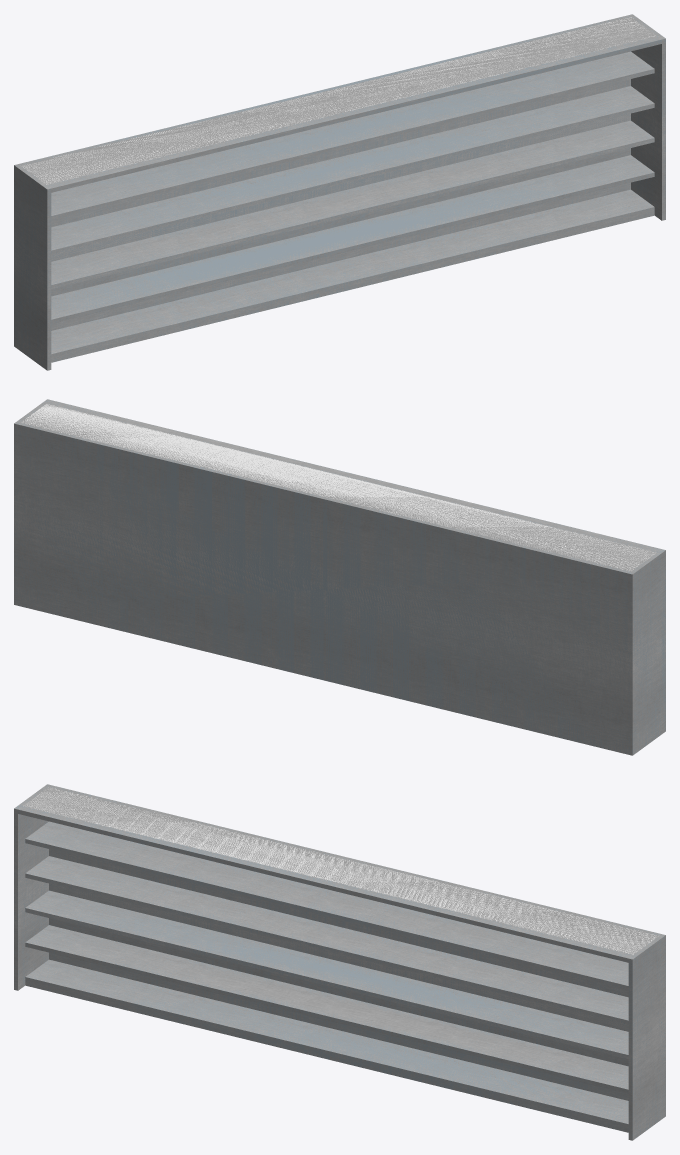
The model's file is oneSidedShelf.fbx.
3 renders of one model, top to bottom at view 1: azimuth 30°, elevation 25°; view 2: azimuth 150°, elevation 25°; view 3: azimuth 330°, elevation 25°, orthographic.
Parts seen in each view (by area): view 1: Model; view 2: Model; view 3: Model.
Part boxes in pixels (box(x1,y1,x2,y2)): Model: box(14, 14, 665, 370); Model: box(14, 399, 665, 755); Model: box(14, 784, 665, 1140).
Size of the model in its own units: 7.5 by 2.1 by 0.7.
